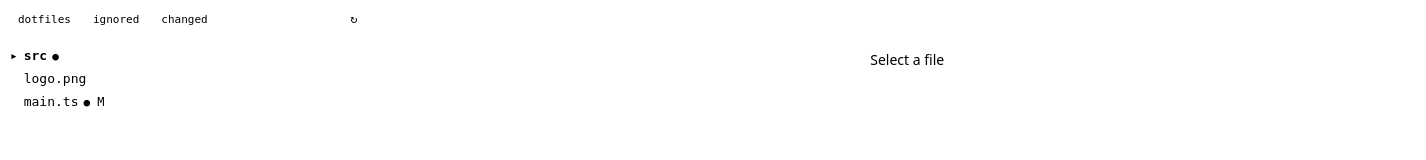
Test: file selection and the content pane › a truncated file shows content plus the truncation note
Click the list item with class "tree-row" showing "main.ts ● M" at (64, 102), box [24,94,104,109]
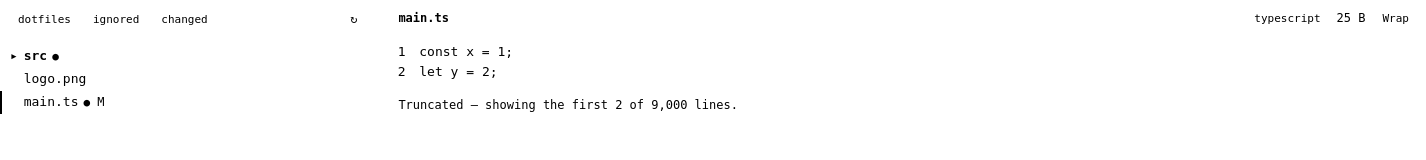
Expected: the element with test id "file-content" is shown, [398,44,738,112]
Expected: the text with test id "file-truncated" shows "of 9,000 lines", [398,98,738,112]
